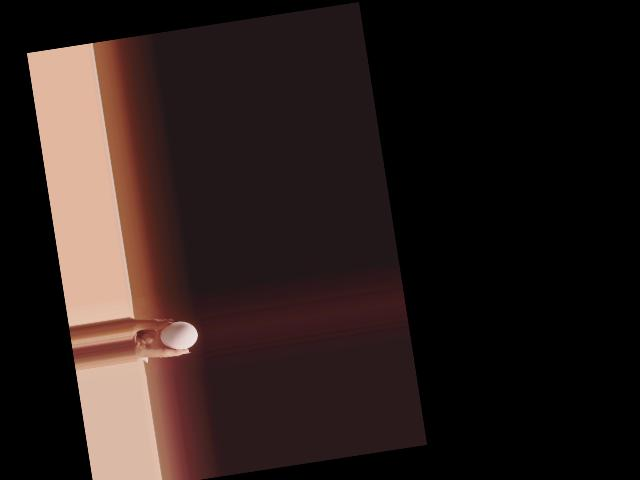egg: (157, 318, 199, 352)
